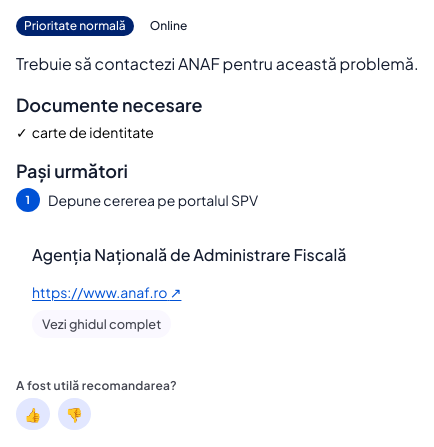
Test: AnalysisResult › sends positive feedback immediately when the thumbs-up button is clicked
This screenshot has width=434, height=447.
What coordinates should you click on to do the following:
click the button named "Recomandarea a fost utilă"
I would click on:
 (33, 414)
Its box is [16,398,50,430].
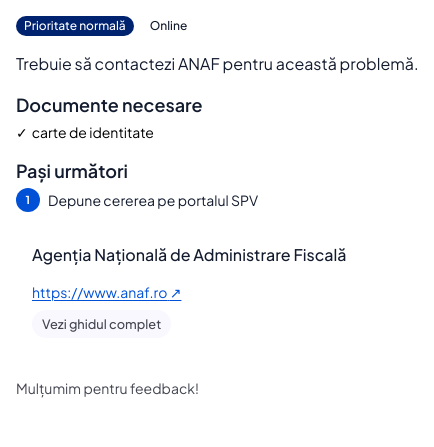
Check: the text "Mulțumim pentru feedback!" is shown, box [16,379,199,397]
